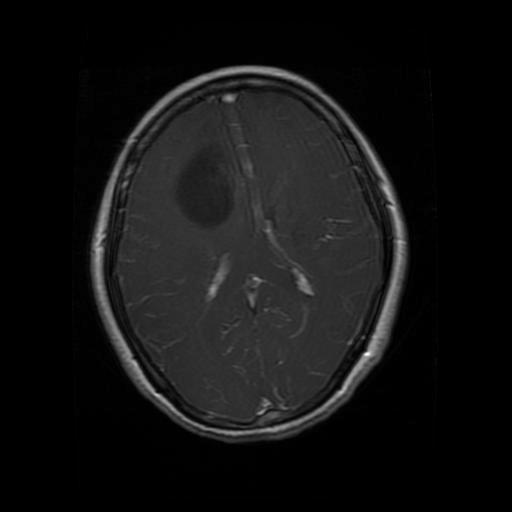Tumour-Glioma: (170, 147, 247, 228)
